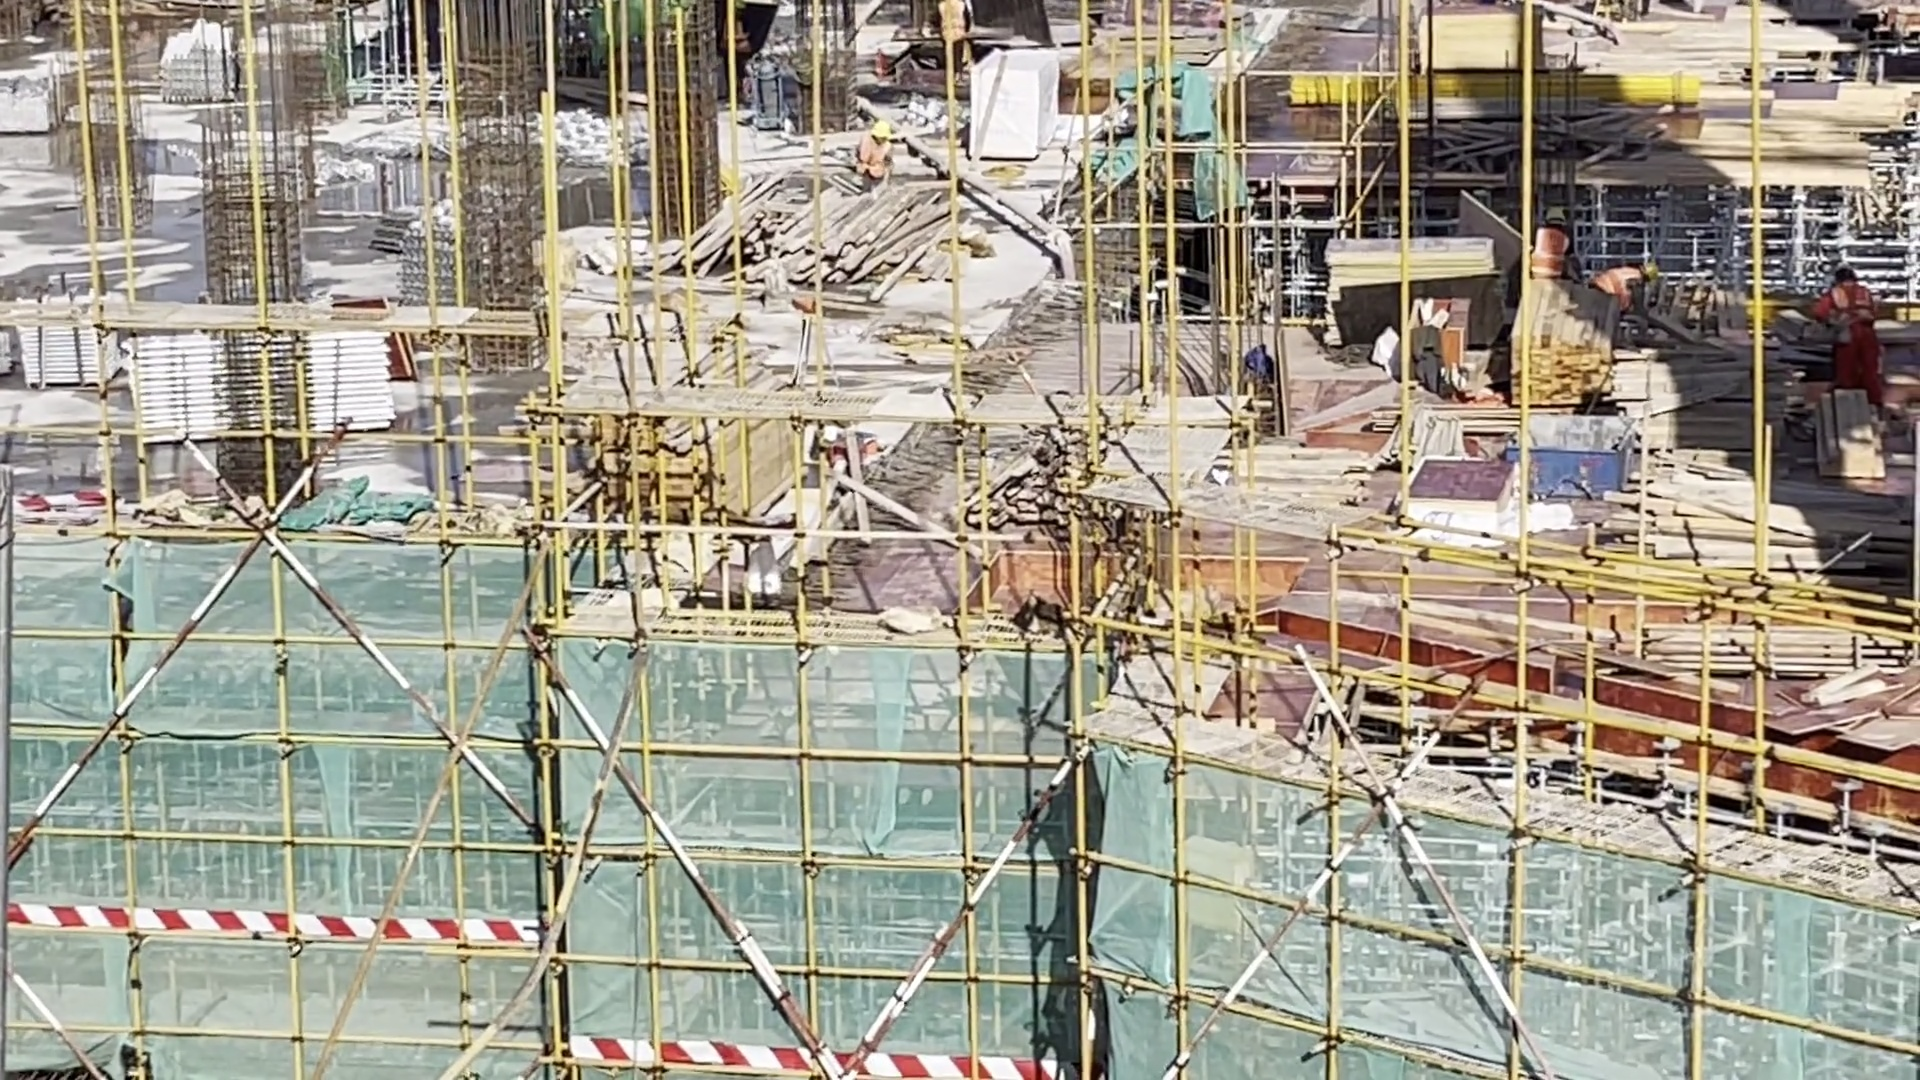helmet: (860, 112, 897, 150), (1636, 253, 1659, 286), (1545, 206, 1562, 227)
hopper: (1511, 408, 1634, 502)
person: (1816, 255, 1894, 410), (1586, 260, 1663, 320), (1532, 207, 1583, 290), (812, 420, 883, 478), (850, 118, 903, 185)
scaffold: (106, 312, 393, 441), (12, 290, 126, 393)
vest: (1829, 286, 1873, 337), (1591, 262, 1638, 302), (1534, 226, 1567, 275), (854, 139, 891, 181)
wood: (1633, 437, 1873, 597), (1636, 612, 1915, 700), (570, 402, 756, 529), (1501, 307, 1622, 407)
